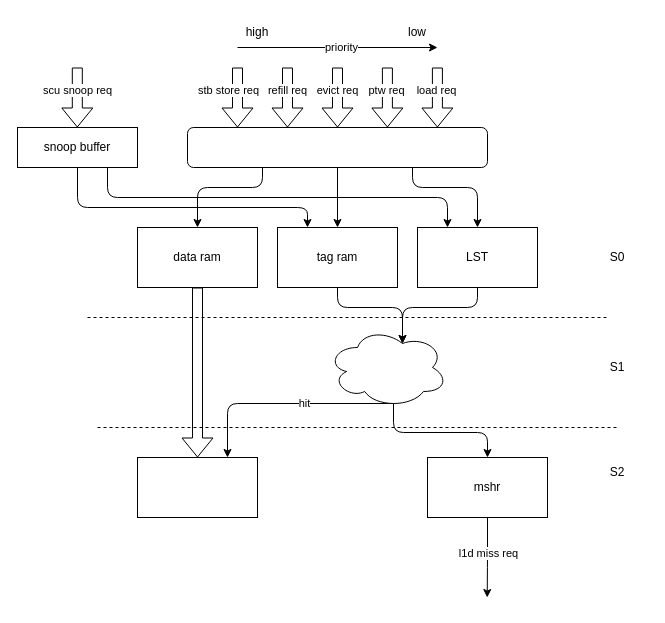
Some shapes in this 665 by 623 pixel diagram are drawn without their labels. Each missing label, with the box of its shape:
hit resp: (136, 456, 258, 518)
hit/miss judge: (326, 326, 448, 408)
req arbiter: (186, 126, 488, 168)
